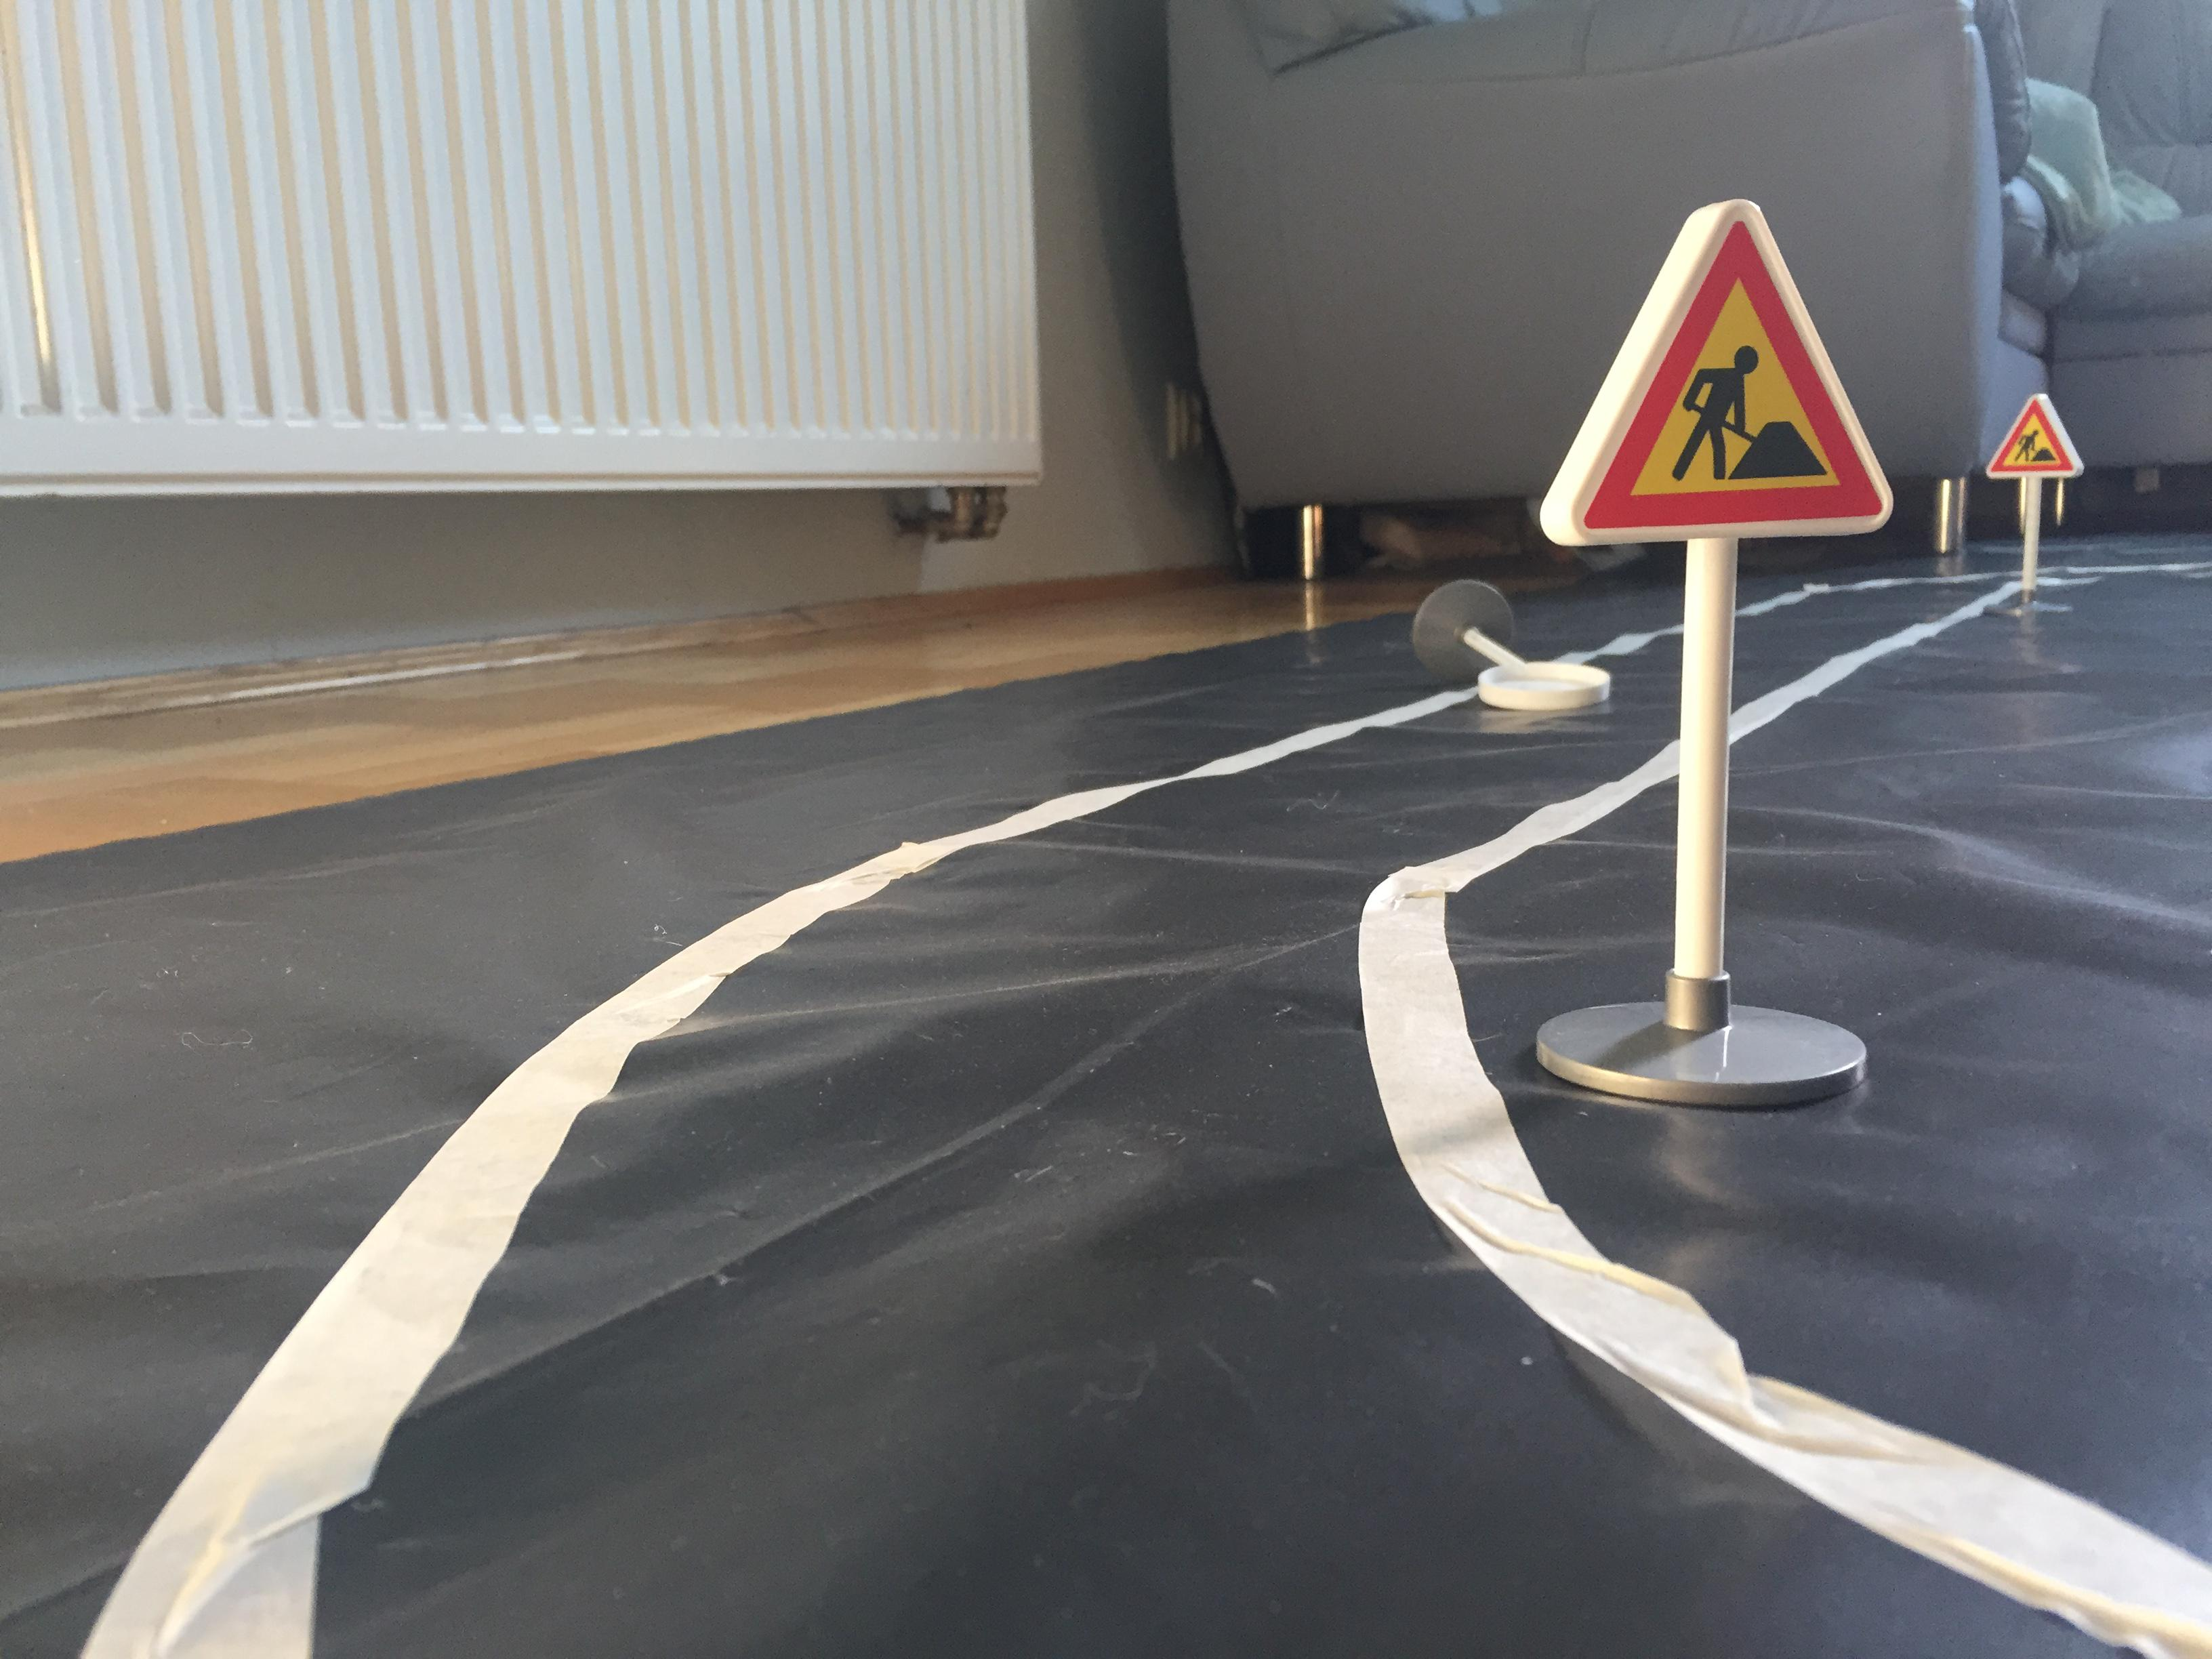work: (1529, 186, 1897, 566), (1977, 376, 2094, 498)
